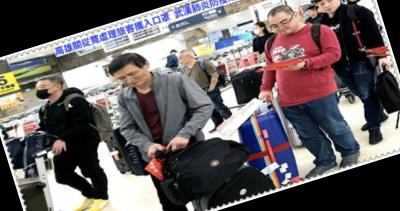with_mask: (33, 80, 57, 103), (251, 26, 263, 37)
without_mask: (116, 66, 149, 93), (268, 14, 299, 39), (176, 54, 190, 68), (307, 9, 315, 18)
